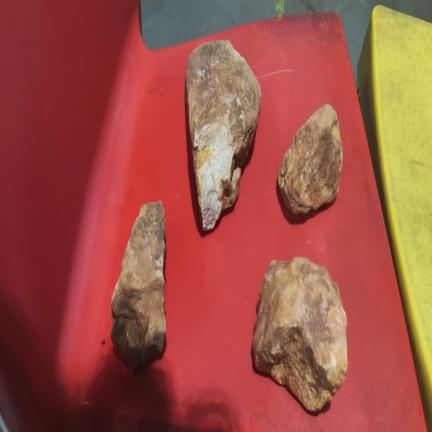Rocks: (253, 258, 347, 411), (186, 41, 261, 230), (111, 202, 165, 371), (278, 105, 342, 213)
